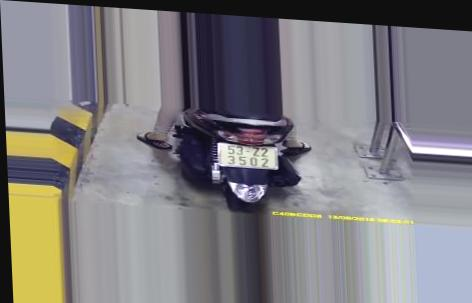License_Plate: (212, 137, 279, 173)
